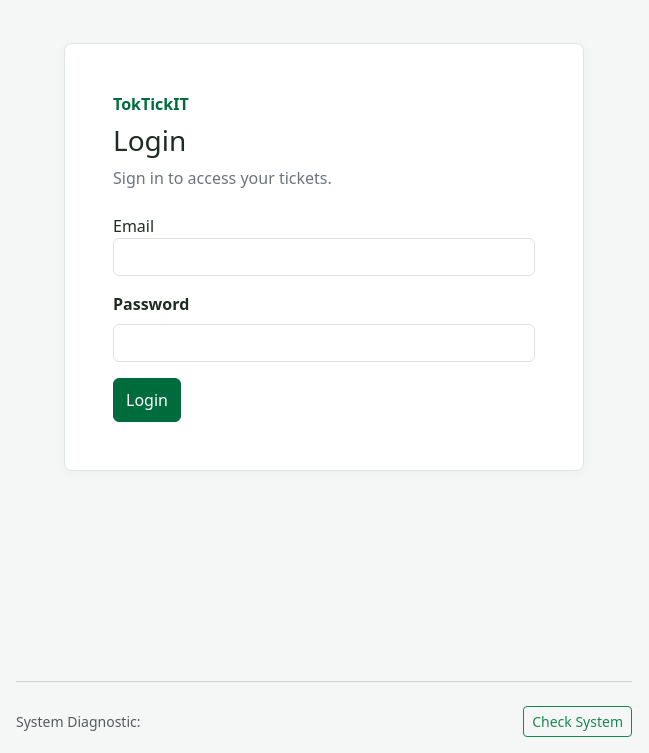
Scenario: App › shows an Offline error message when the API is unavailable
This screenshot has width=649, height=753.
(page scrolled)
Click the button "Check System": {"x": 578, "y": 722} [523,706,632,737]
(page scrolled)
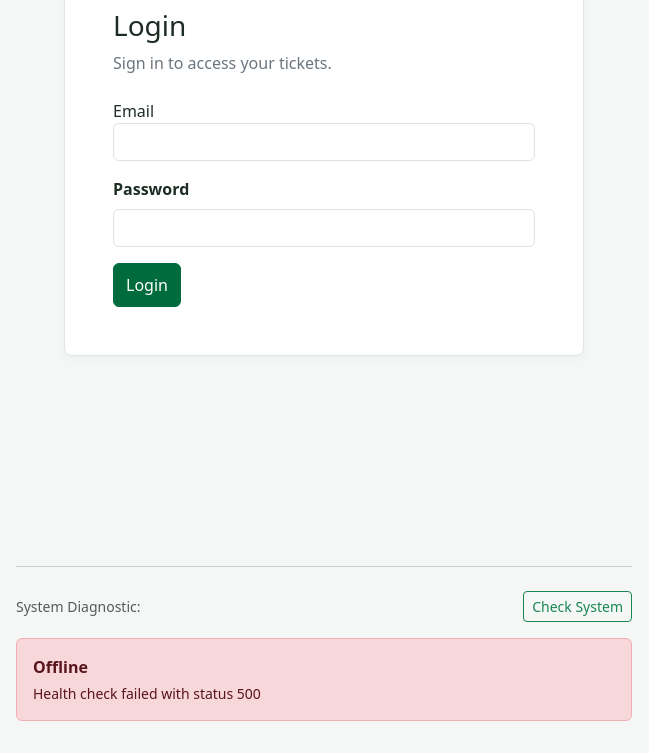
Now the text "Offline" is shown, box [33,656,88,678]
Now the text "Health check failed with status 500" is shown, box [33,684,261,703]
